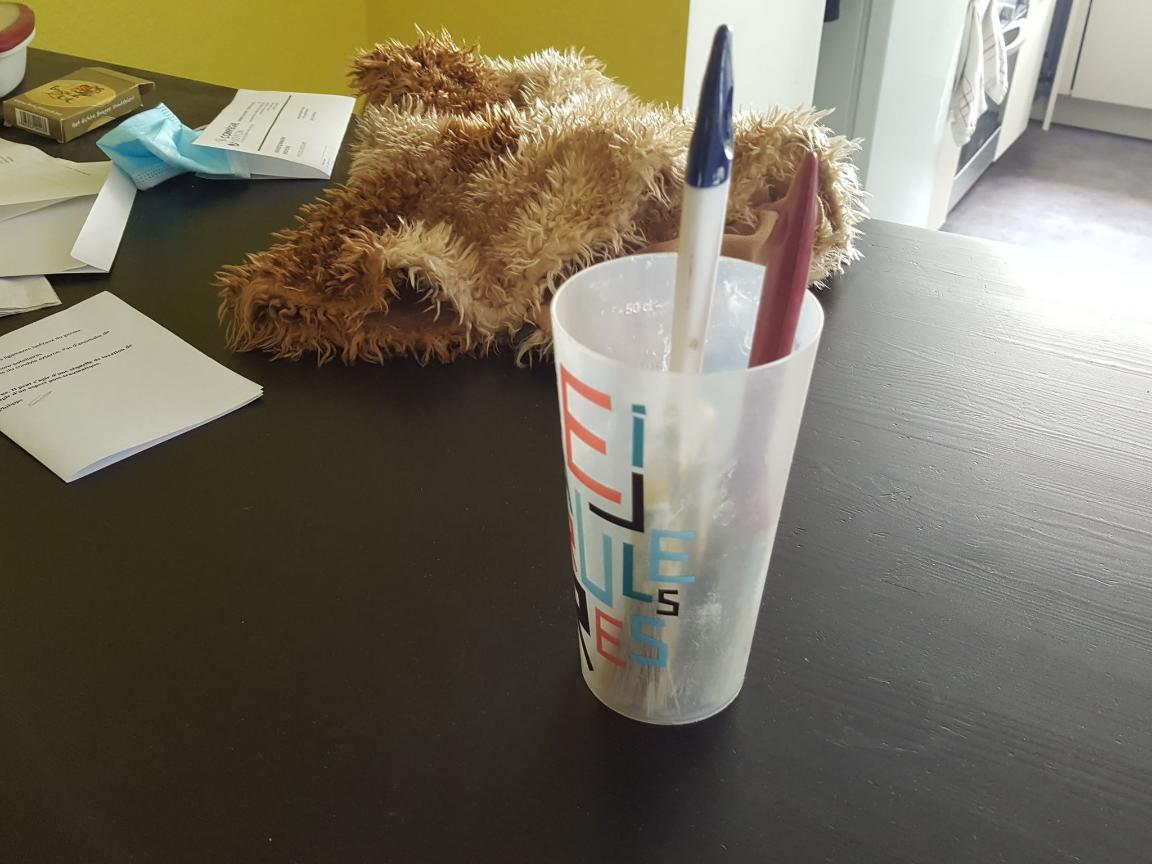ecocup: (549, 250, 823, 727)
